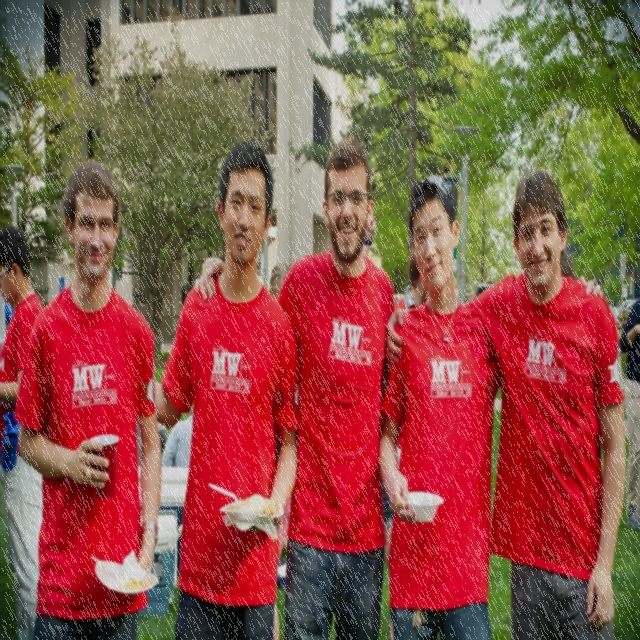pessoa: (134, 260, 492, 598), (382, 167, 628, 639), (191, 130, 402, 639), (9, 156, 168, 639), (152, 138, 303, 640), (376, 169, 504, 639), (0, 224, 45, 639), (559, 242, 629, 331), (618, 268, 640, 532)
